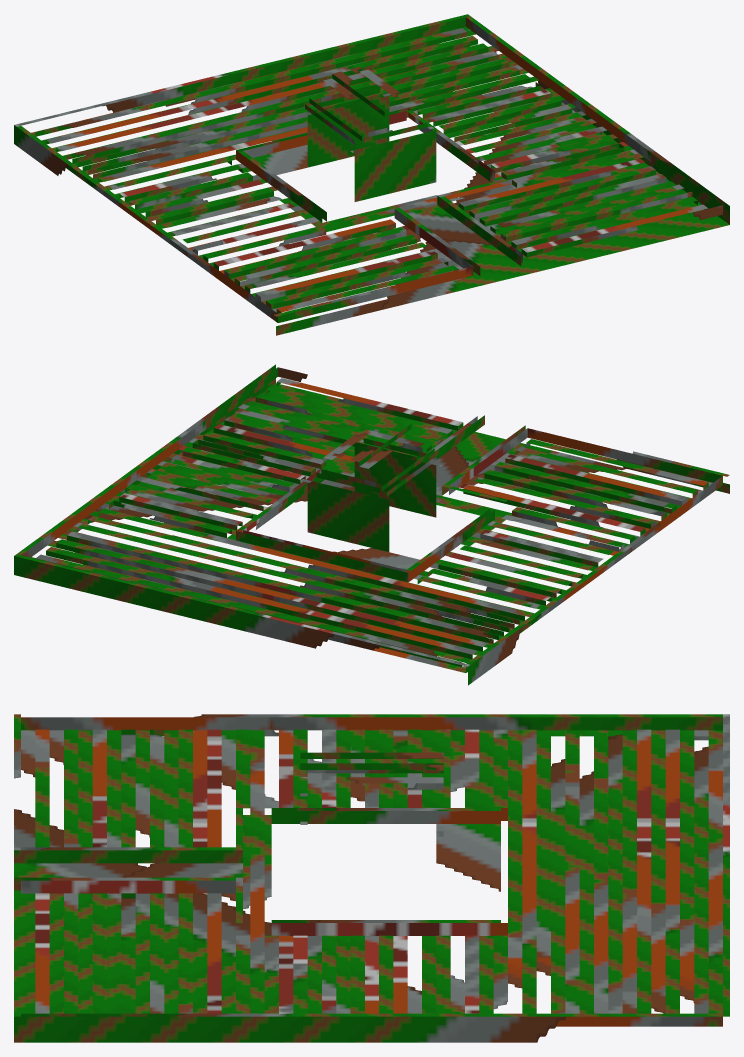
Rendered from Comida1.fbx.
The picture shows the model from 3 angles, top to bottom: view 1: azimuth 30°, elevation 25°; view 2: azimuth 150°, elevation 25°; view 3: azimuth 270°, elevation 25°; orthographic projection. The views are drawn at different scales.
Parts seen in each view (by area): view 1: Comida1; view 2: Comida1; view 3: Comida1.
Part boxes in pixels (x1,y1,x2,y2): Comida1: [14, 14, 729, 335]; Comida1: [14, 364, 729, 685]; Comida1: [14, 714, 729, 1042].
Bounding box in the file's own units: 100 × 21 × 100.
